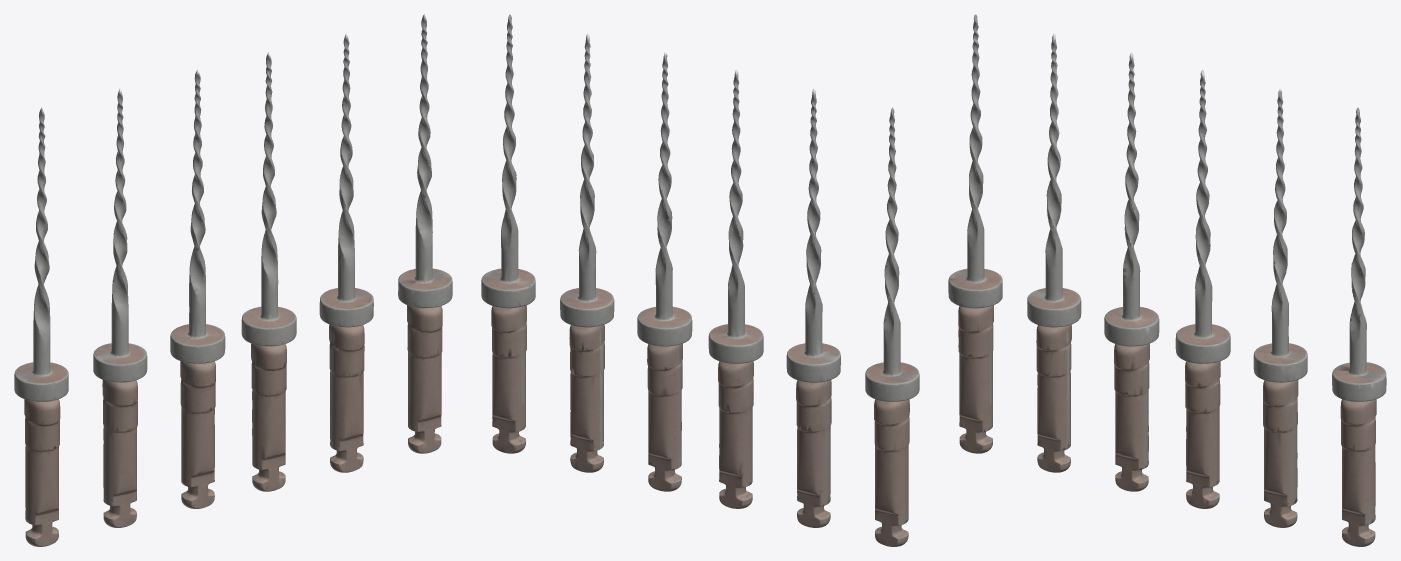
File: limas-meshy-fast.glb
3 views of the same model, side by side, from view 1: azimuth 30°, elevation 25°; view 2: azimuth 150°, elevation 25°; view 3: azimuth 330°, elevation 25° (orthographic).
Size of the model in its own units: 1.9 by 1.84 by 0.2074.
Materials: 1 (1 with a texture image).
